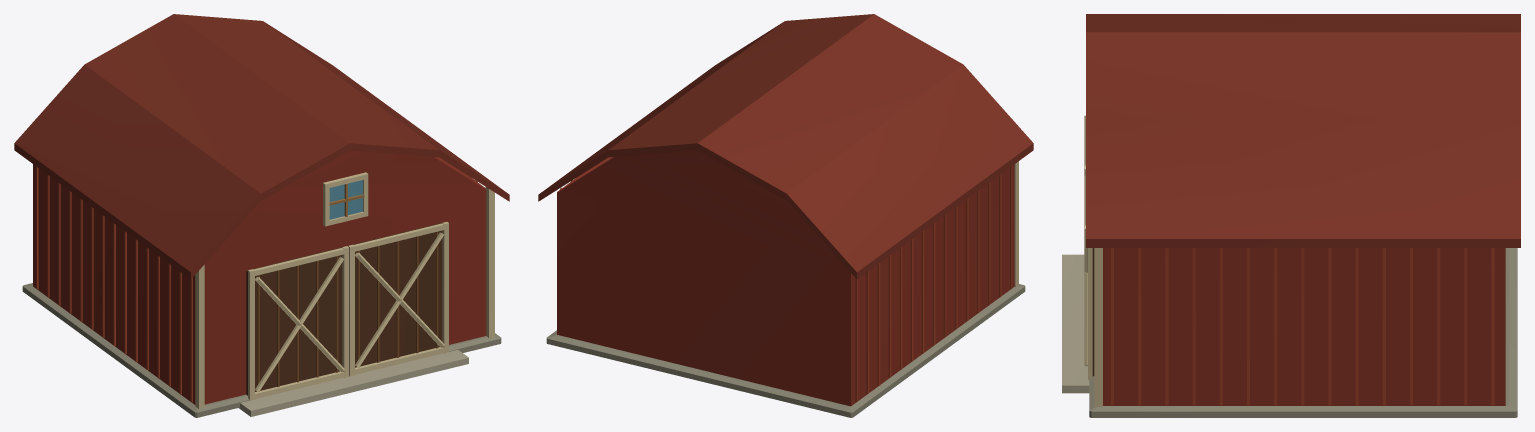
Rendered from Building_Rural_CountryBarn6m_001.glb.
3 views of the same model, side by side, from view 1: azimuth 30°, elevation 25°; view 2: azimuth 150°, elevation 25°; view 3: azimuth 270°, elevation 25° (orthographic). The views are drawn at different scales.
Parts seen in each view (by area): view 1: RU_CountryBarn6m_Body; view 2: RU_CountryBarn6m_Body; view 3: RU_CountryBarn6m_Body.
Part boxes in pixels (bbox=[...]): RU_CountryBarn6m_Body: bbox=[14, 14, 509, 417]; RU_CountryBarn6m_Body: bbox=[538, 14, 1033, 417]; RU_CountryBarn6m_Body: bbox=[1062, 14, 1520, 417].
Bounding box in the file's own units: 6.5 × 4.68 × 6.58.
